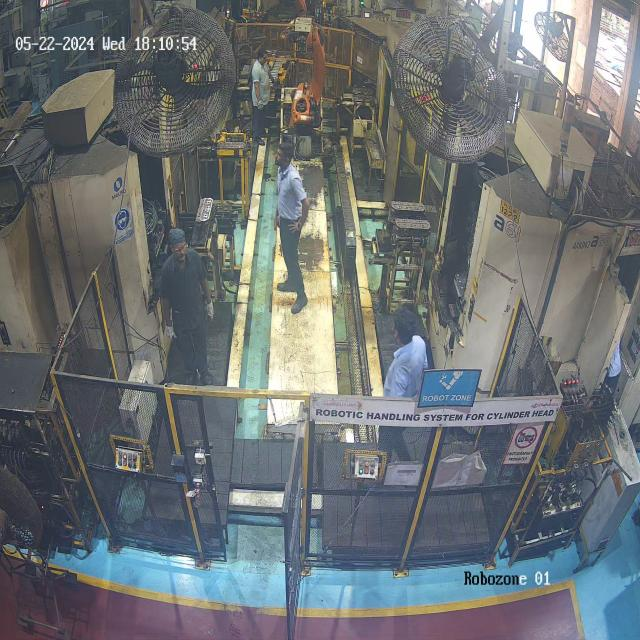person: (147, 226, 228, 402), (255, 140, 322, 308), (369, 307, 444, 404), (246, 42, 278, 144)
